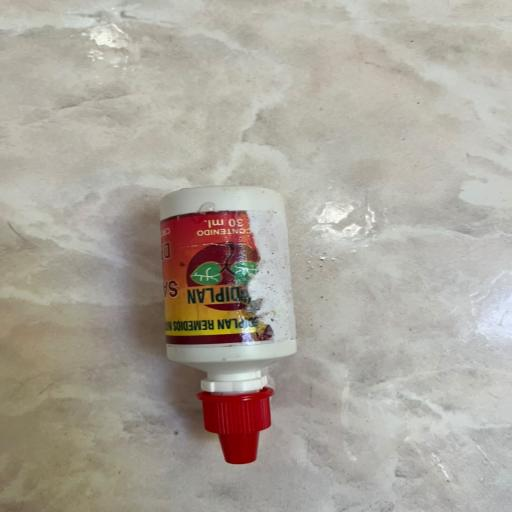HDPE: (140, 186, 353, 505)
